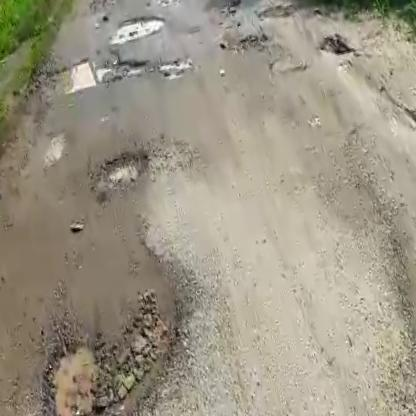pothole: (22, 294, 203, 416), (53, 41, 153, 97), (86, 141, 159, 198), (104, 7, 167, 44), (155, 57, 191, 82)
